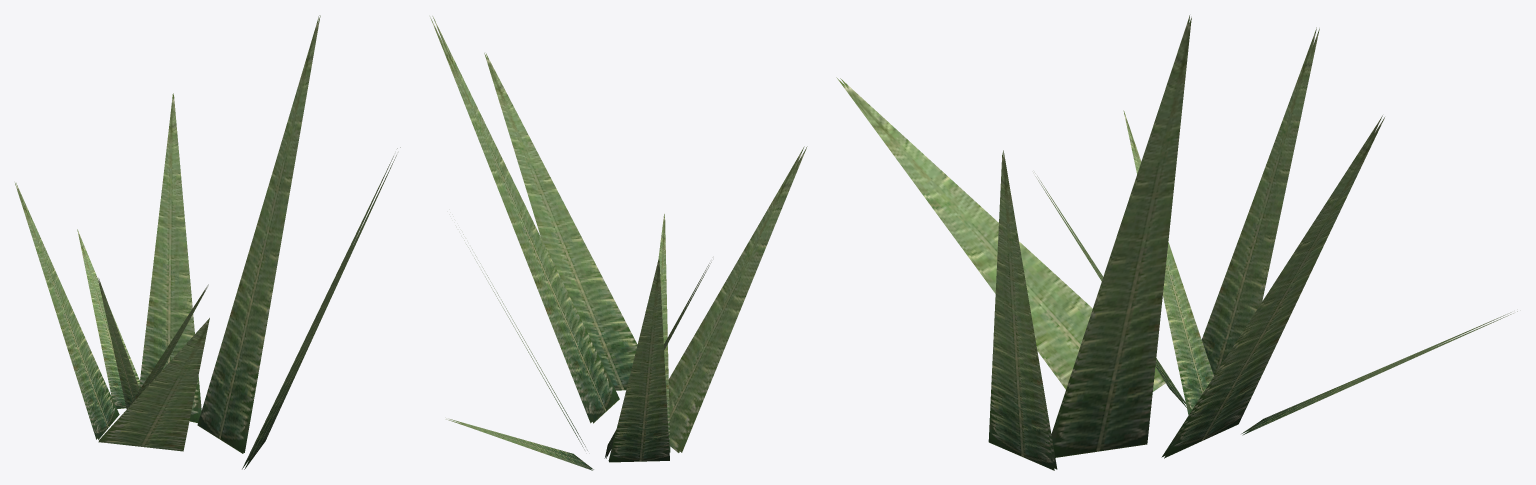
Rendered from frst_fern_green_longleaf_sm_l2.fbx.
3 renders of one model, left to right at view 1: azimuth 30°, elevation 25°; view 2: azimuth 150°, elevation 25°; view 3: azimuth 270°, elevation 25°, orthographic. The views are drawn at different scales.
Parts seen in each view (by area): view 1: mesh_node; view 2: mesh_node; view 3: mesh_node.
Part boxes in pixels (<box>): mesh_node: <box>15,15,400,469</box>; mesh_node: <box>430,16,807,470</box>; mesh_node: <box>836,15,1517,470</box>.
Size of the model in its own units: 1.88 by 2.41 by 2.81.
